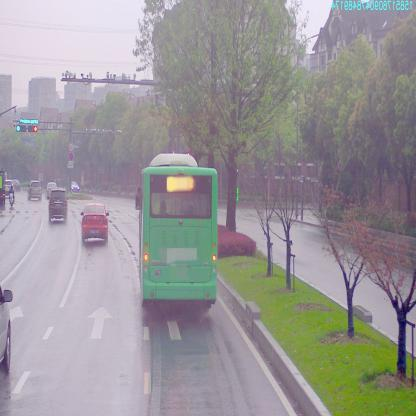traffic-light: (19, 118, 39, 124), (29, 124, 38, 134), (18, 124, 26, 135)
